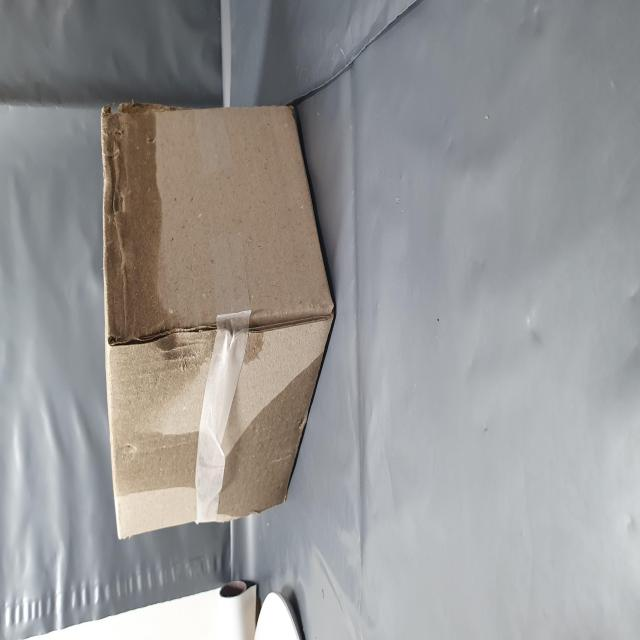wet: (58, 190, 314, 589)
